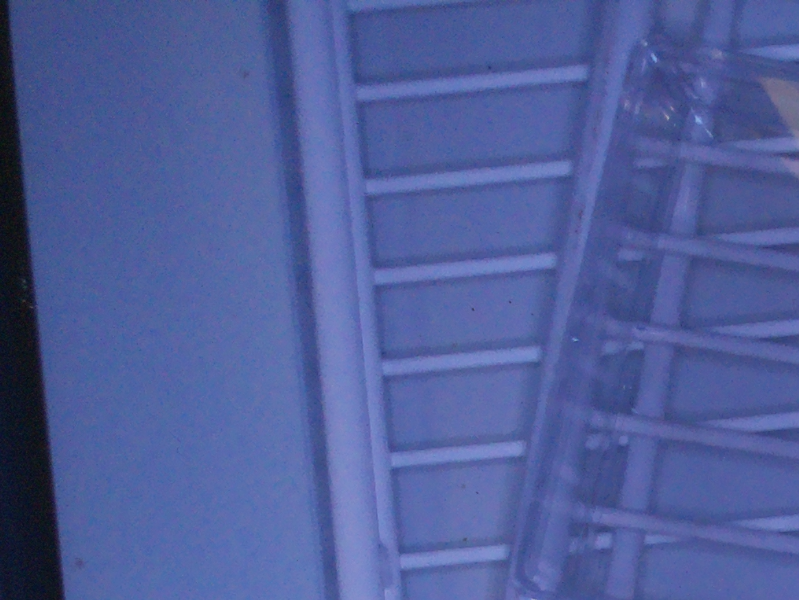plate: (520, 33, 799, 600)
